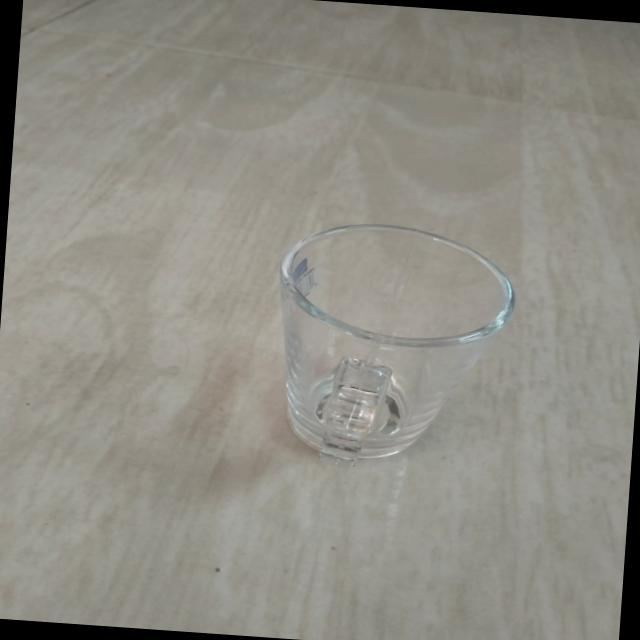glass-VX4N: (267, 217, 525, 470)
